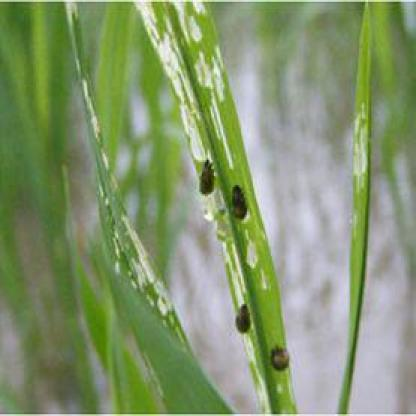rice-bug: (268, 340, 293, 374), (196, 158, 218, 196), (231, 184, 252, 220), (235, 300, 255, 336)
